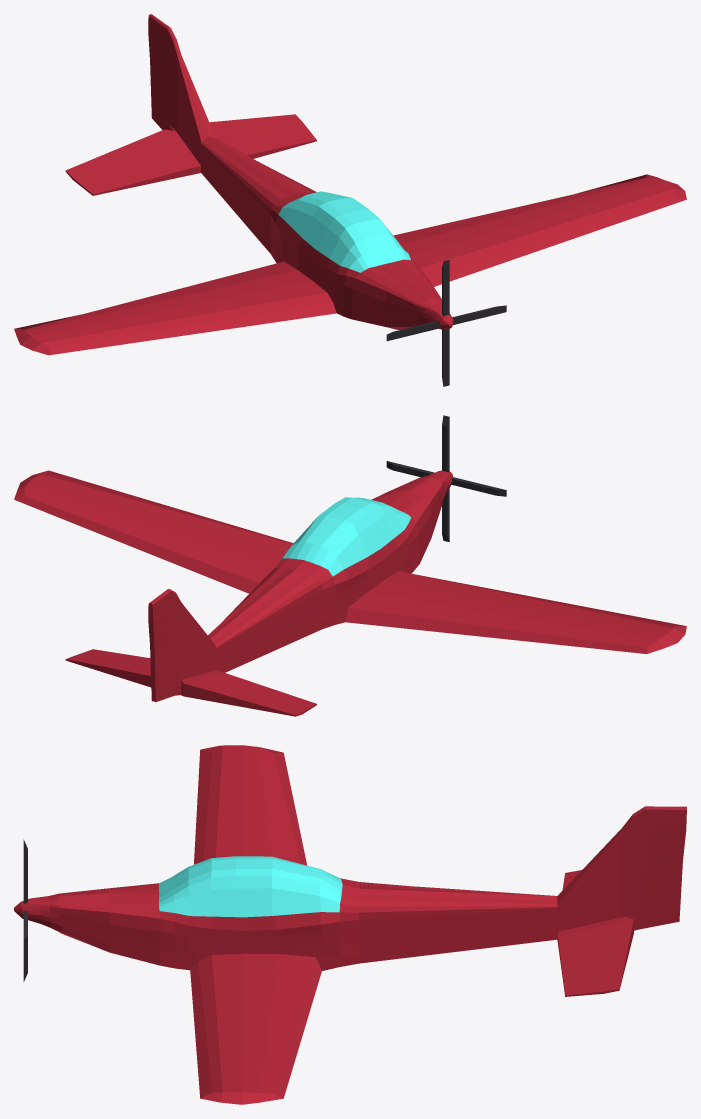
3 views of the same model, one above another, from view 1: azimuth 30°, elevation 25°; view 2: azimuth 150°, elevation 25°; view 3: azimuth 270°, elevation 25° (orthographic). The views are drawn at different scales.
Parts seen in each view (by area): view 1: Cube, Cube.002; view 2: Cube, Cube.002; view 3: Cube, Cube.002.
Boxes of the visible parts, <box> form: Cube: <box>14,14,686,355</box>; Cube.002: <box>386,260,506,386</box>; Cube: <box>14,470,686,716</box>; Cube.002: <box>386,415,506,542</box>; Cube: <box>14,745,686,1104</box>; Cube.002: <box>23,839,27,981</box>.
Bounding box in the file's own units: 2.58 × 0.5841 × 2.04.
2 materials, 1 textured.
